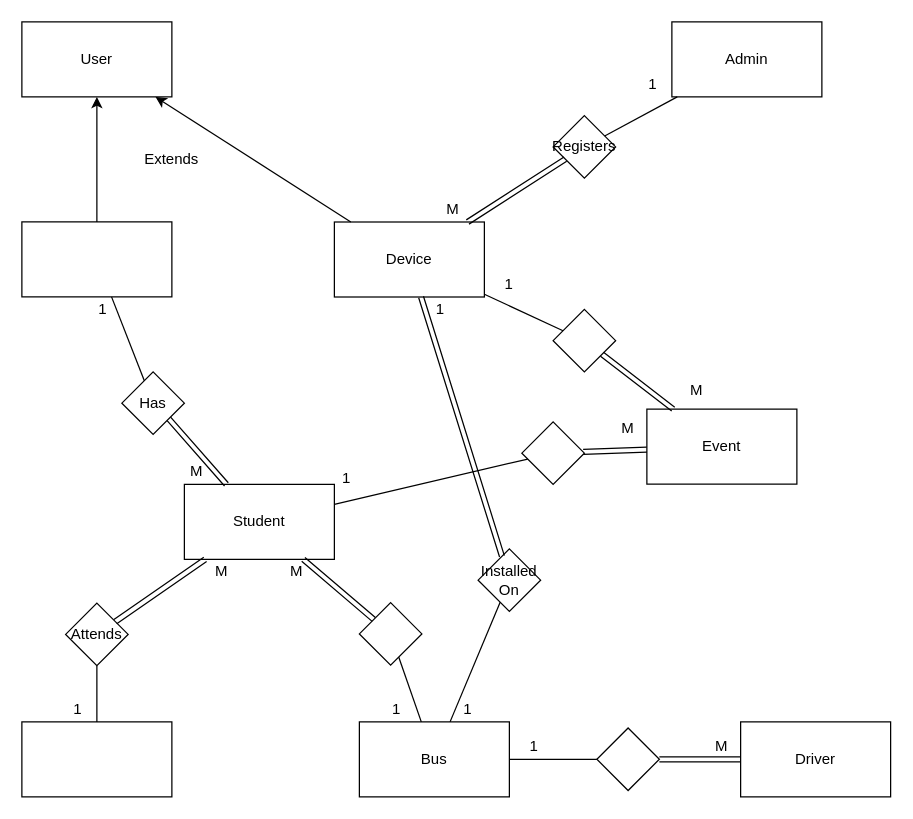
Image size: 913x819. Some labels were removed from this diagram. Each missing label, with the centre of its shape:
"Drives" goes at (627,758).
"Involves" goes at (552,452).
"Parent" goes at (96,259).
"Rides" goes at (390,633).
"School" goes at (96,759).
"Transmits" goes at (584,340).
